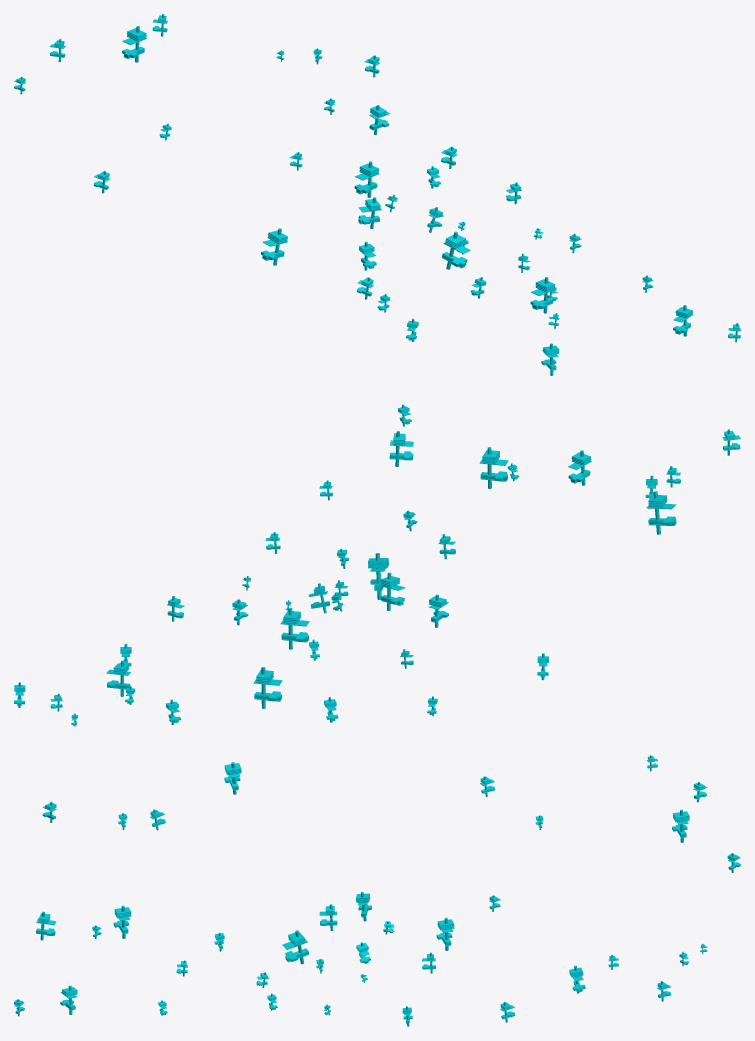
Rendered from BackgroundColorBoxes.fbx.
3 views of the same model, one above another, from view 1: azimuth 30°, elevation 25°; view 2: azimuth 150°, elevation 25°; view 3: azimuth 270°, elevation 25° (orthographic). The views are drawn at different scales.
Visible parts, largest first — view 1: polySurface1110; view 2: polySurface1110; view 3: polySurface1110.
Part boxes in pixels (<box>): polySurface1110: <box>14,14,740,375</box>; polySurface1110: <box>14,404,740,726</box>; polySurface1110: <box>14,755,740,1026</box>.
Bounding box in the file's own units: 30.87 × 9.6 × 54.3.
